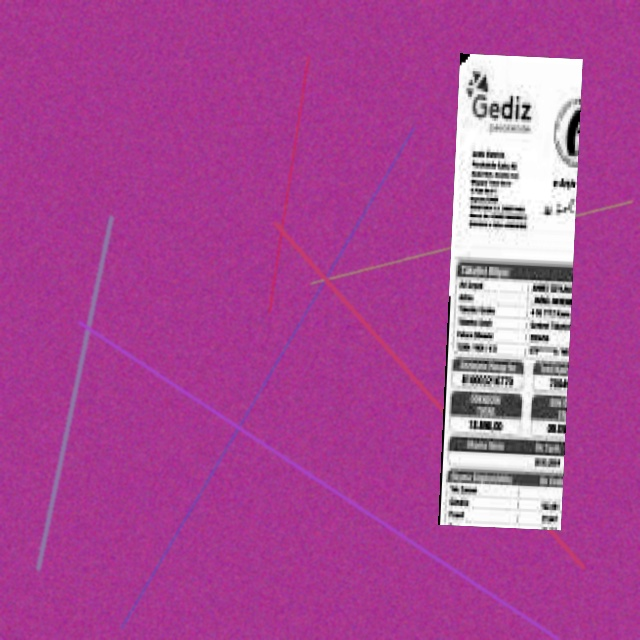electricity-bill: (438, 53, 582, 531)
